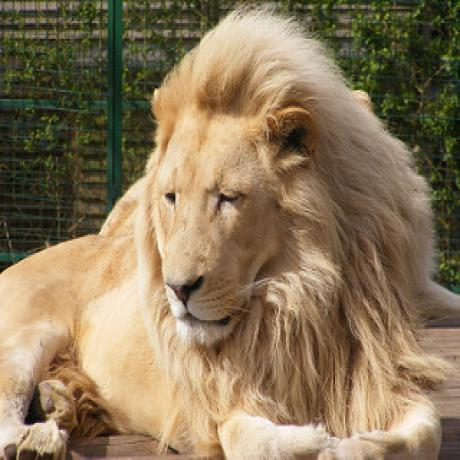Lion: (0, 7, 436, 460)
